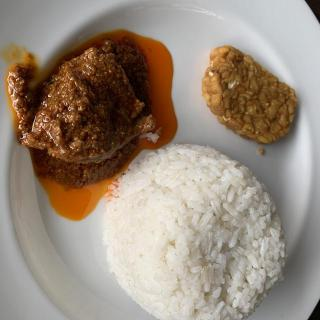Nasi: (105, 146, 285, 320)
